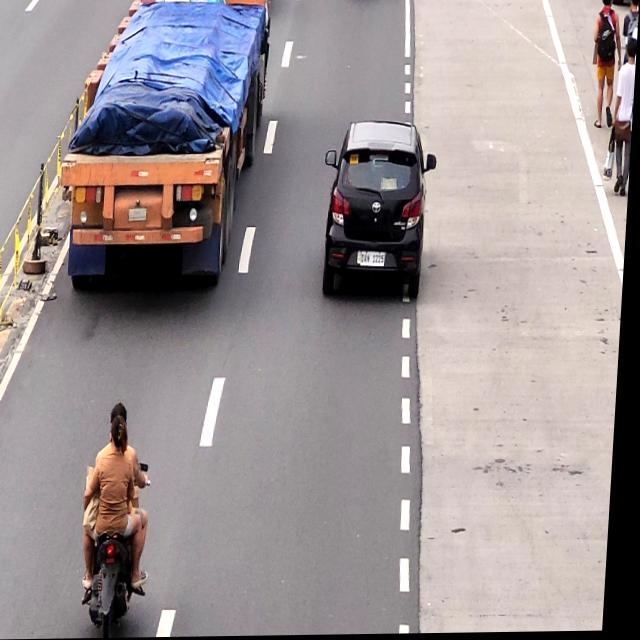Car: (325, 116, 438, 297)
License-Plate: (364, 251, 390, 271)
Motorcycle: (83, 402, 160, 639)
Truck: (68, 0, 261, 288)
